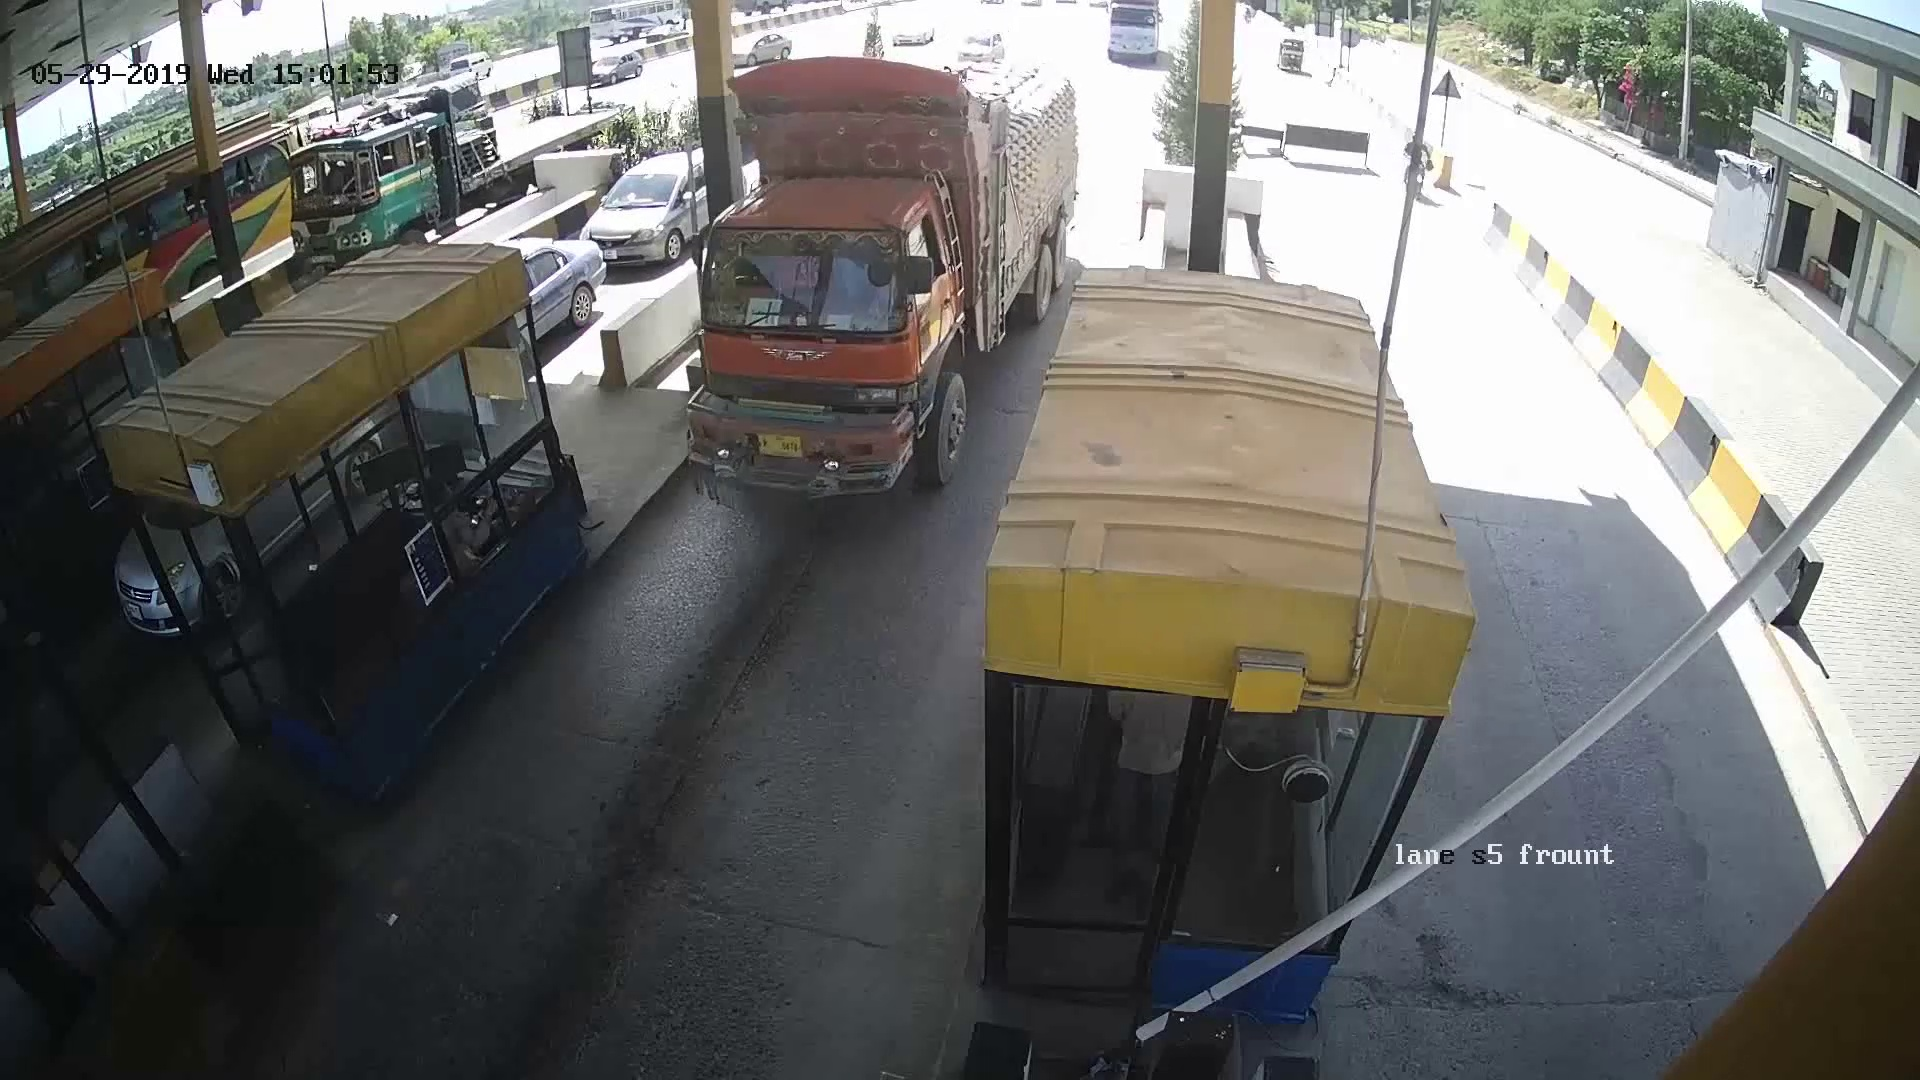truck: (752, 132, 1064, 425)
